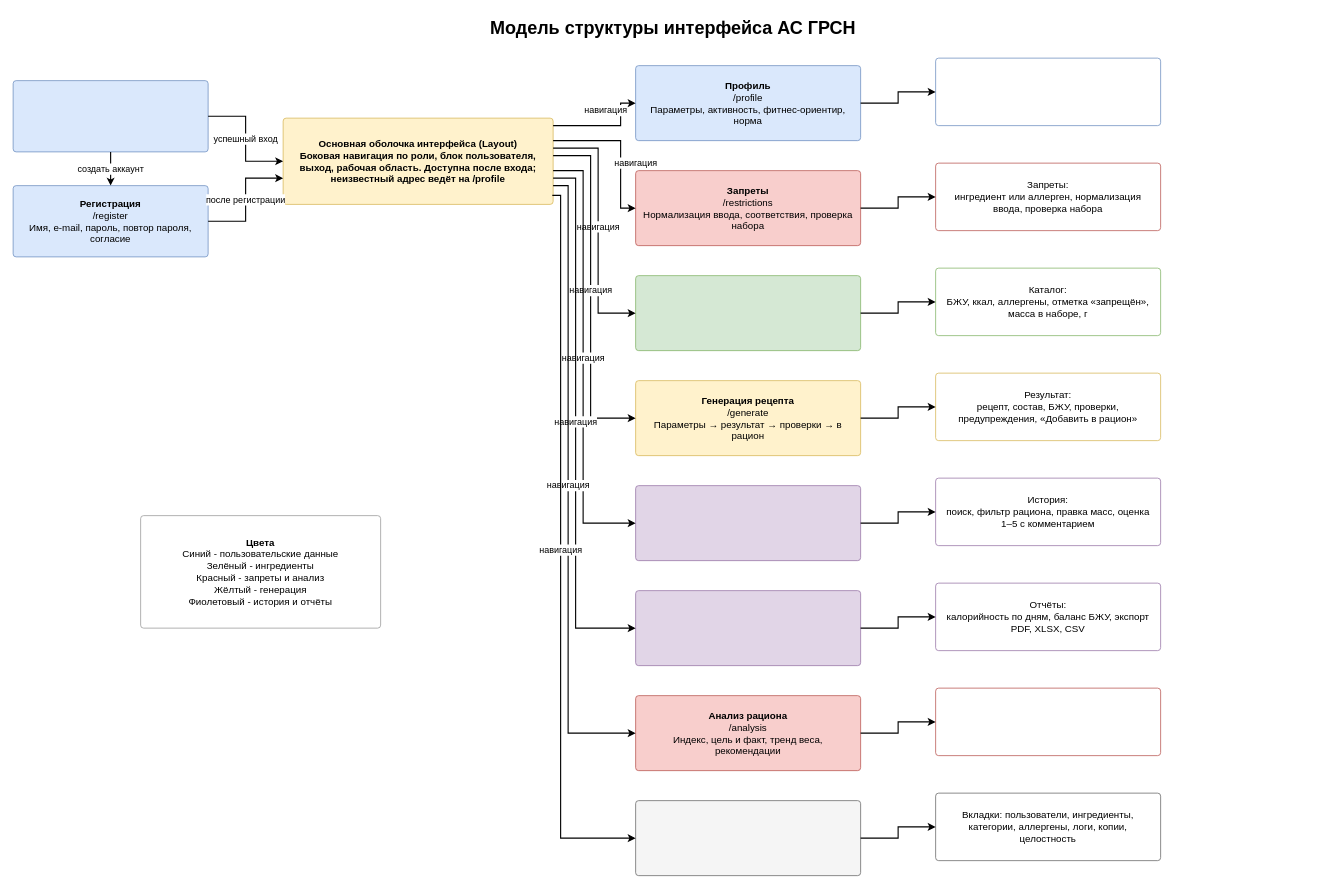
This 1331x889 diagram has some shape labels left out. The centre of each missing label's shape, as x and y in pixels:
Авторизация /login E-mail и пароль, сообщения об ошибке и блокировке входа: the point at 110,116
Администрирование /admin (только роль admin) 7 вкладок управления и контроля: the point at 748,838
Анализ: индекс соответствия, тренд и прогноз веса на 30 дней, советы: the point at 1048,721
Ингредиенты /ingredients Каталог, поиск, категории, набор доступных: the point at 748,313
История рецептов /history Архив, рацион, правка состава, оценка: the point at 748,523
Отчёты /reports Период, показатели по дням, баланс БЖУ, экспорт: the point at 748,628
Профиль: вес, рост, возраст, пол, активность, ориентир, история замеров: the point at 1048,91
